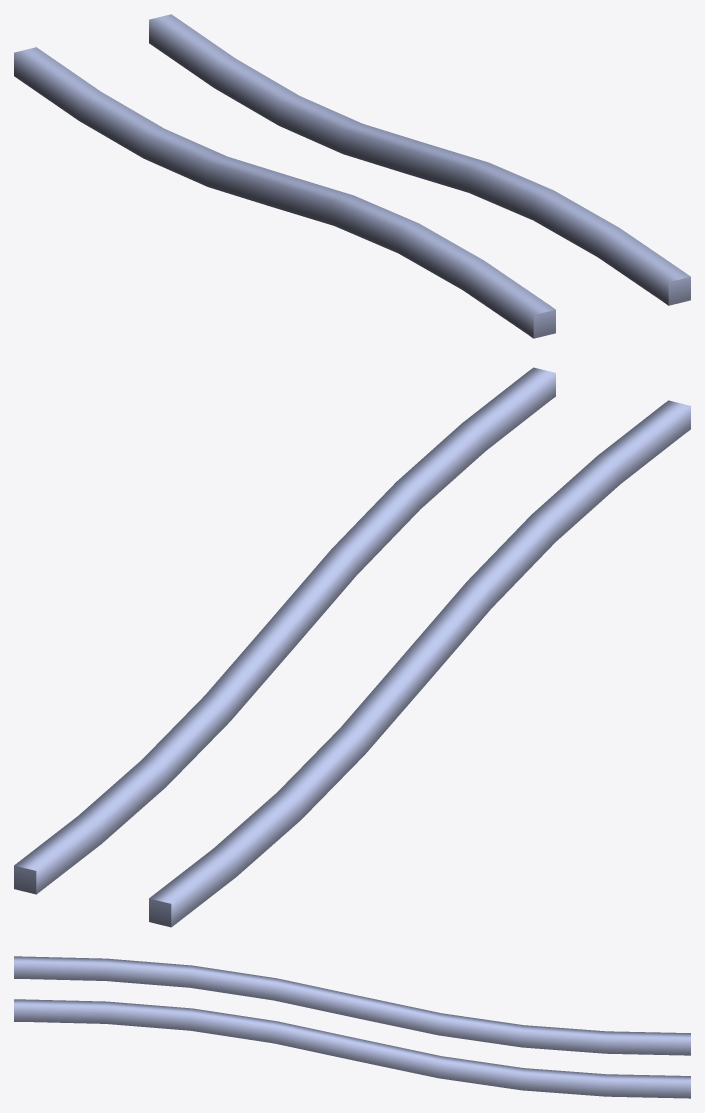
The model's file is kenney-train-railroad-rail-straight-hill-complete-half.glb.
3 renders of one model, top to bottom at view 1: azimuth 30°, elevation 25°; view 2: azimuth 150°, elevation 25°; view 3: azimuth 270°, elevation 25°, orthographic. The views are drawn at different scales.
Visible parts, largest first — view 1: railroad-rail-straight-hill-complete-half; view 2: railroad-rail-straight-hill-complete-half; view 3: railroad-rail-straight-hill-complete-half.
Part boxes in pixels (x1,y1,x2,y2): railroad-rail-straight-hill-complete-half: (14, 14, 690, 338); railroad-rail-straight-hill-complete-half: (14, 367, 690, 927); railroad-rail-straight-hill-complete-half: (14, 956, 690, 1098).
Bounding box in the file's own units: 0.6997 × 0.6001 × 4.
1 material, 1 textured.
